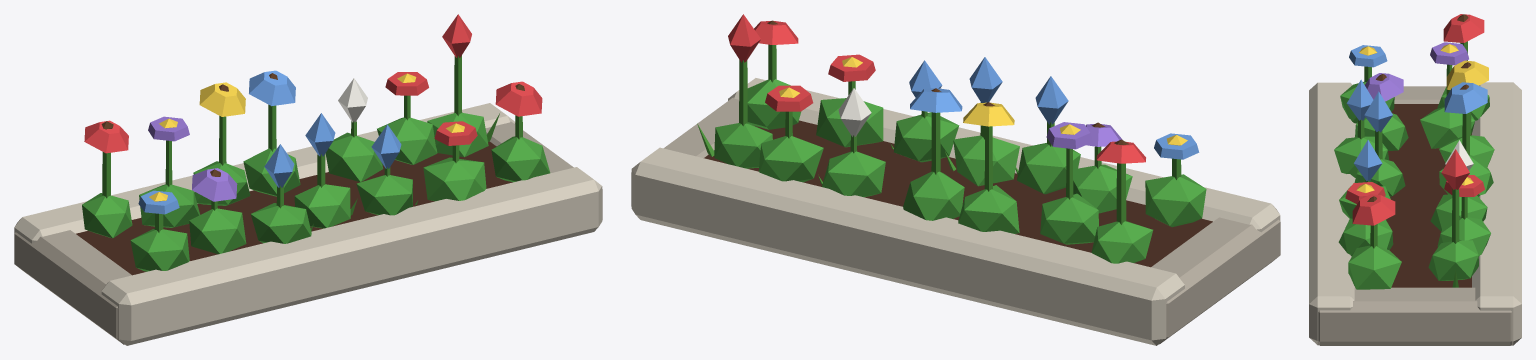
File: FlowerBed_Mixed.fbx
3 renders of one model, left to right at view 1: azimuth 30°, elevation 25°; view 2: azimuth 150°, elevation 25°; view 3: azimuth 270°, elevation 25°, orthographic. The views are drawn at different scales.
Parts seen in each view (by area): view 1: FlowerBed_Mixed; view 2: FlowerBed_Mixed; view 3: FlowerBed_Mixed.
Part boxes in pixels (box(x1,y1,x2,y2)): FlowerBed_Mixed: box(14, 14, 602, 345); FlowerBed_Mixed: box(631, 14, 1280, 345); FlowerBed_Mixed: box(1309, 14, 1521, 345).
Bounding box in the file's own units: 2.43 × 0.8563 × 0.9807.
